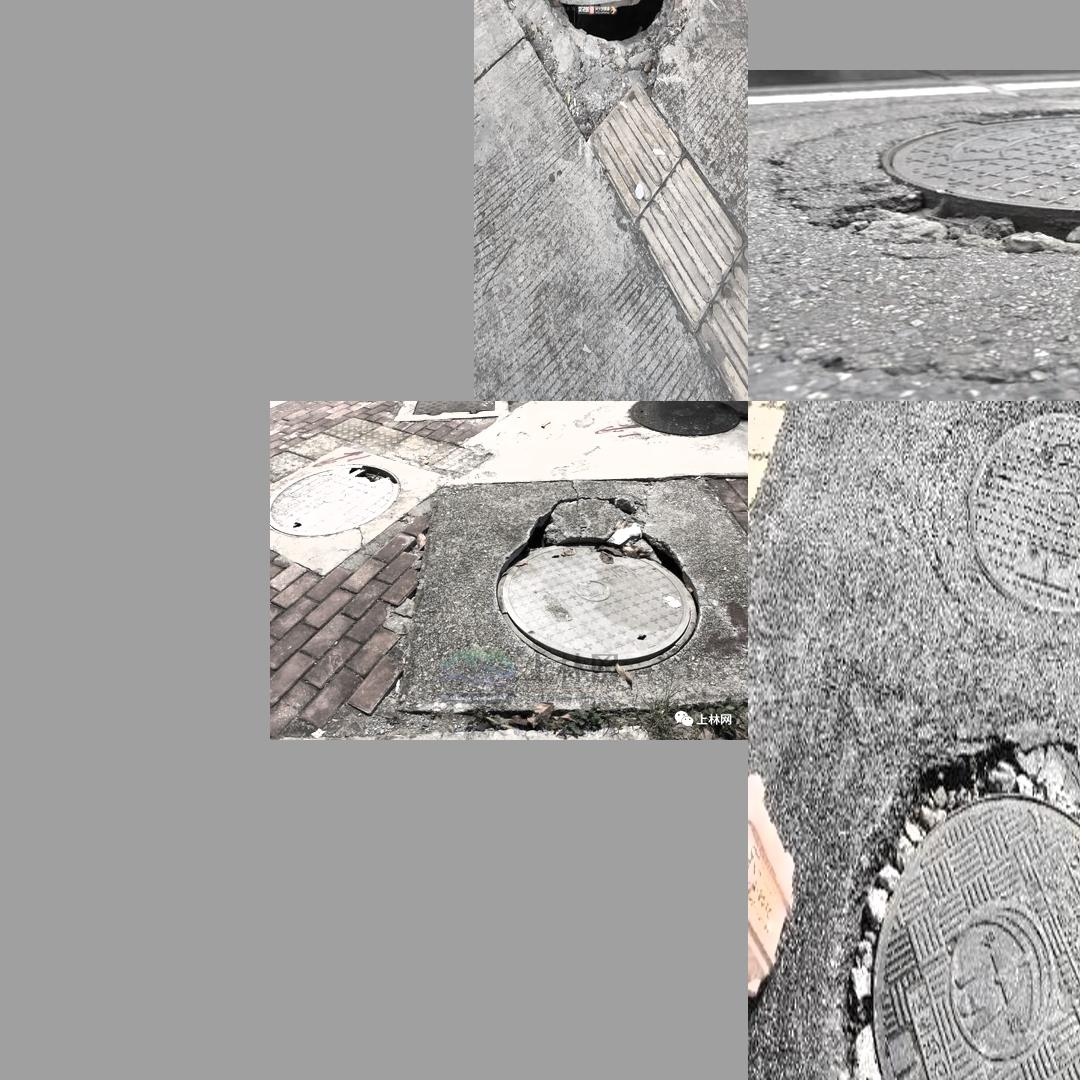circle: (390, 468, 745, 713), (844, 740, 1080, 1080), (774, 102, 1080, 281), (499, 0, 723, 122)
good: (964, 410, 1080, 616)
